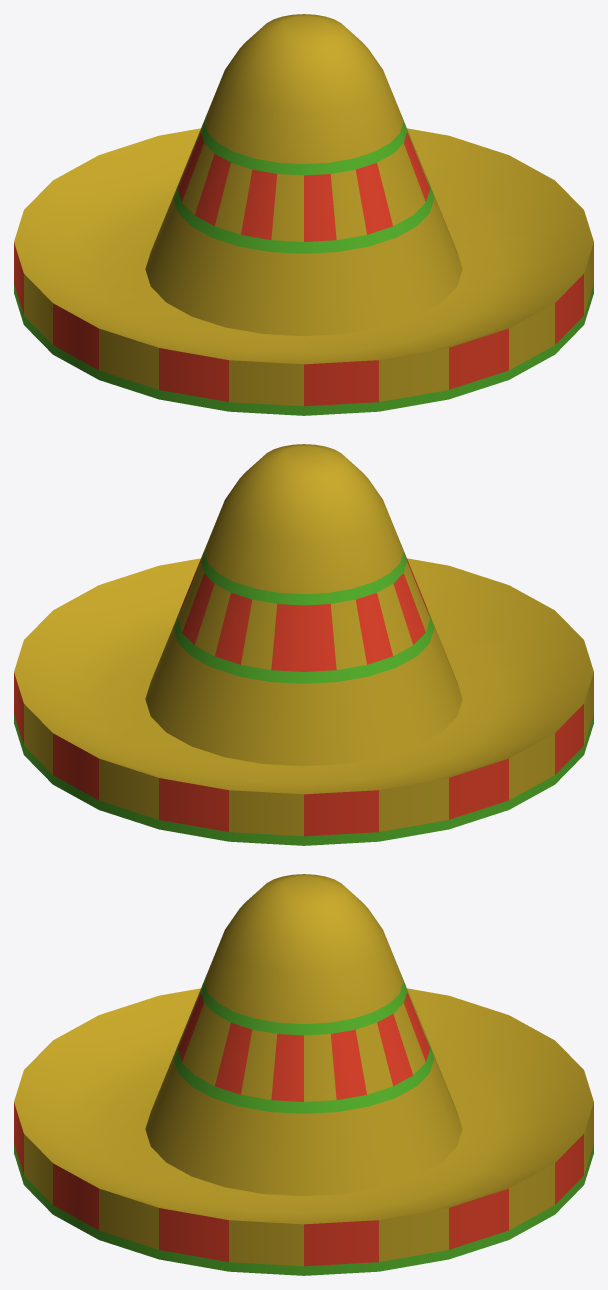
File: Sombrero.glb
3 views of the same model, one above another, from view 1: azimuth 30°, elevation 25°; view 2: azimuth 150°, elevation 25°; view 3: azimuth 270°, elevation 25° (orthographic).
Visible parts, largest first — view 1: Sombrero; view 2: Sombrero; view 3: Sombrero.
Part boxes in pixels (x1,y1,x2,y2): Sombrero: [14, 14, 593, 415]; Sombrero: [14, 444, 593, 845]; Sombrero: [14, 874, 593, 1275].
Bounding box in the file's own units: 2.57 × 1.31 × 2.57.
